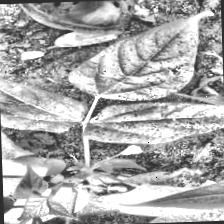ALS: (75, 17, 205, 102), (94, 92, 224, 152)
